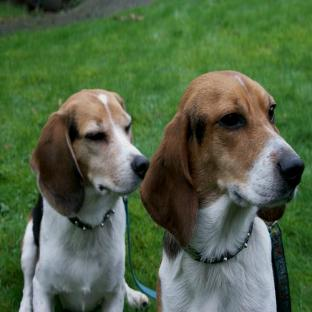Animal: (141, 71, 305, 310), (19, 89, 149, 311)
